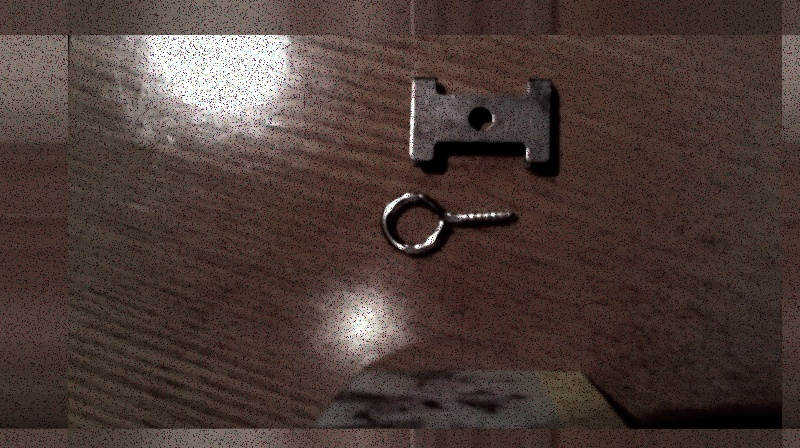O001: (376, 189, 522, 256)
O002: (405, 71, 559, 174)
